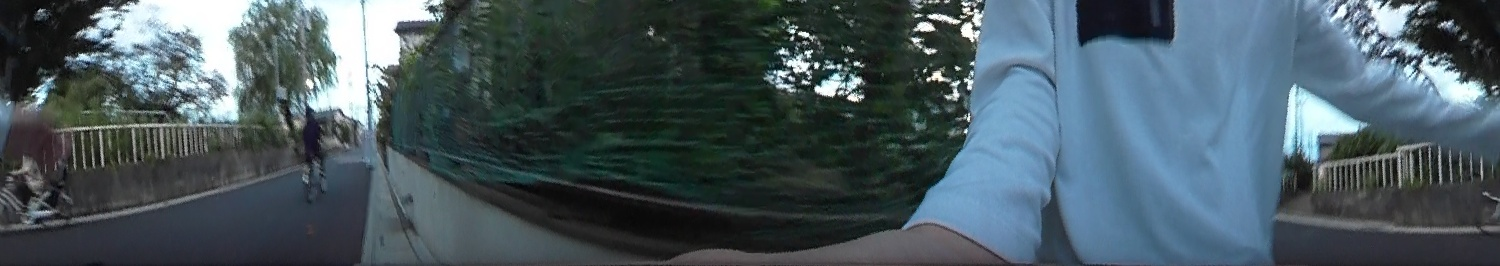person: (17, 143, 60, 219), (300, 103, 329, 186)
